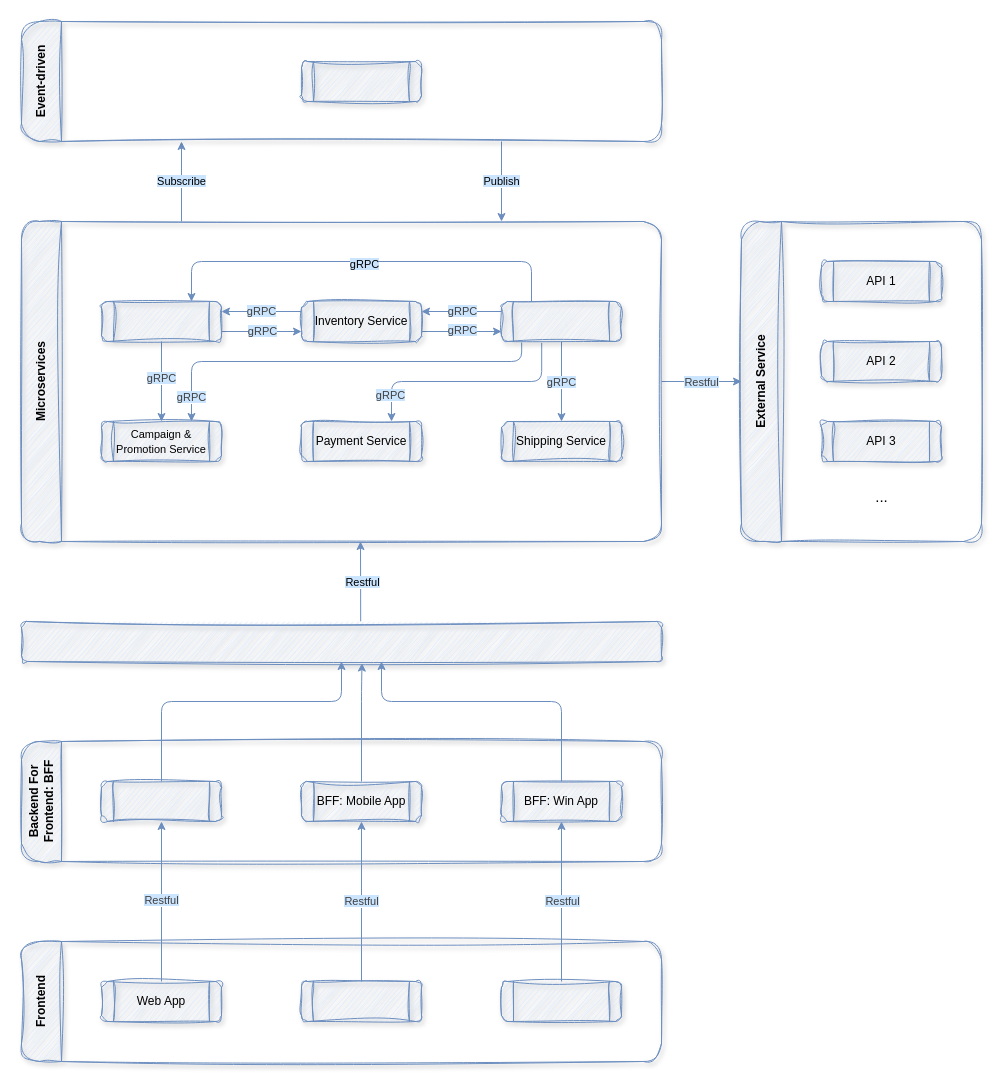
Some shapes in this 1005 by 1086 pixel diagram are drawn without their labels. The centre of each missing label's shape, as x and y in pixels:
"API Gateway" belongs at (x=342, y=642).
"BFF: Web App" belongs at (x=162, y=802).
"Message Broker" belongs at (x=362, y=82).
"Mobile App" belongs at (x=362, y=1002).
"Order Service" belongs at (x=562, y=322).
"Product Service" belongs at (x=162, y=322).
"Win App" belongs at (x=562, y=1002).
